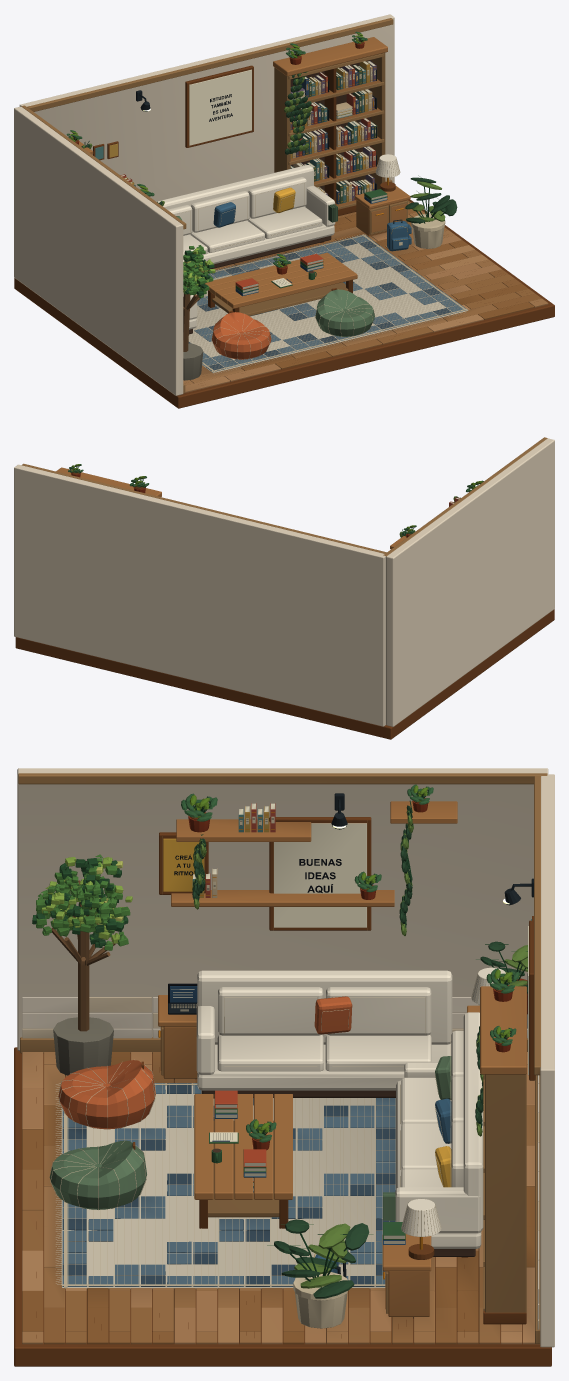
The model's file is living-reduced.glb.
3 renders of one model, top to bottom at view 1: azimuth 30°, elevation 25°; view 2: azimuth 150°, elevation 25°; view 3: azimuth 270°, elevation 25°, orthographic. The views are drawn at different scales.
Parts seen in each view (by area): view 1: Shared environment v2; view 2: Shared environment v2; view 3: Shared environment v2.
Part boxes in pixels (left/top/right/bottom): Shared environment v2: left=14, top=14, right=554, bottom=408; Shared environment v2: left=14, top=437, right=554, bottom=739; Shared environment v2: left=14, top=768, right=554, bottom=1366.
Size of the model in its own units: 8.22 by 3.9 by 6.21.
